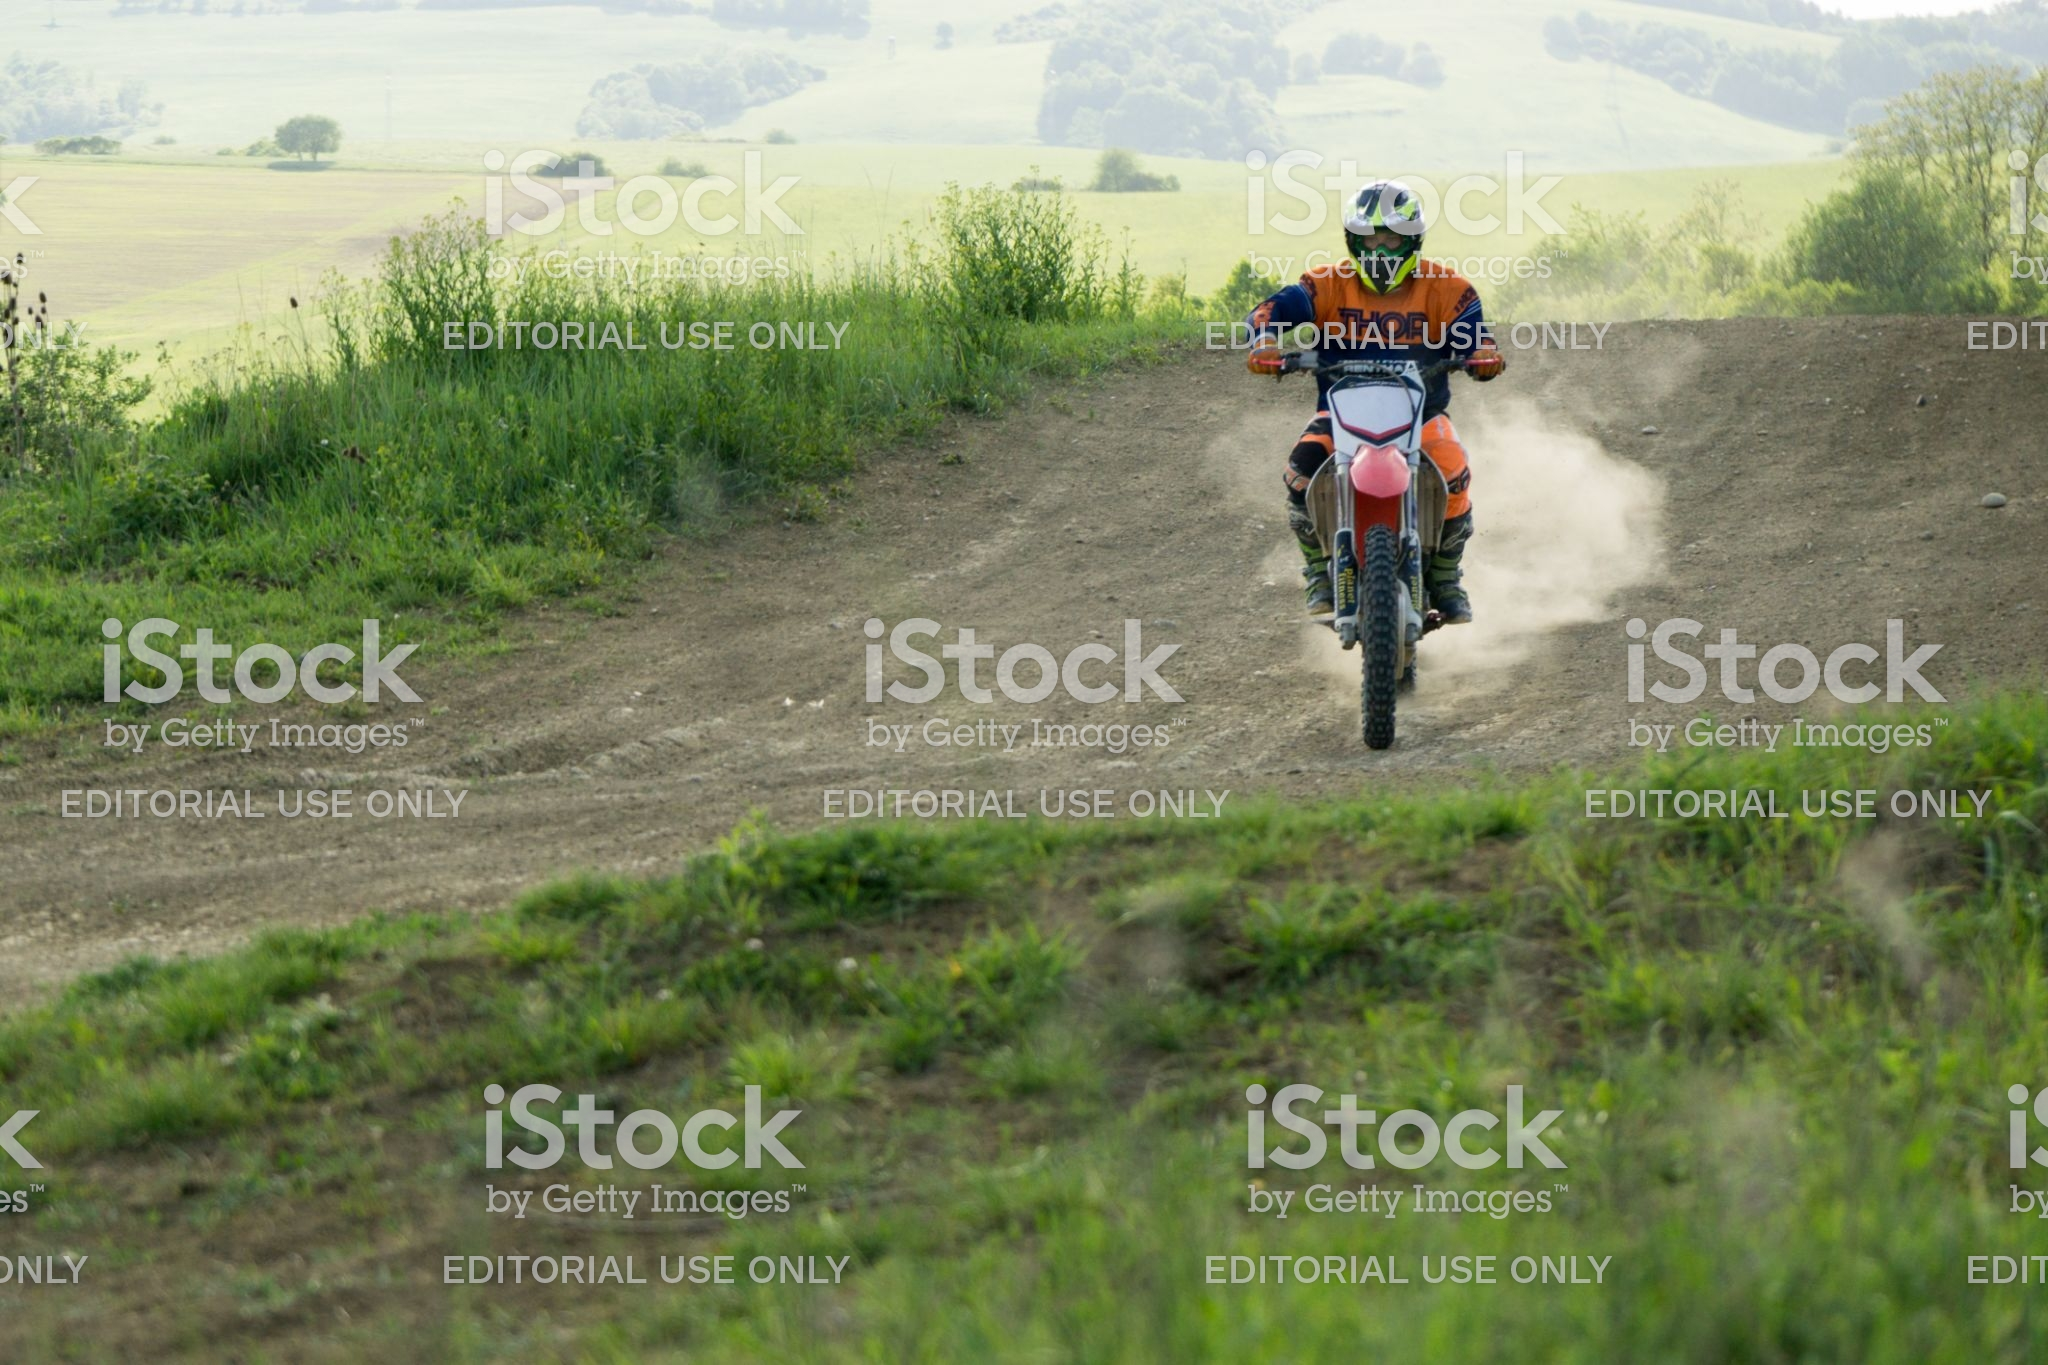helmet: (1326, 181, 1447, 305)
